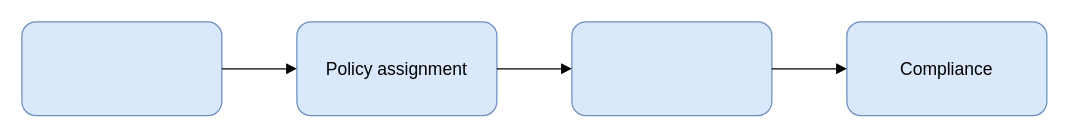
This 1069x138 diagram has some shape labels left out. The shapes that lost their labels are listed below. From the top down, each one's centre as x and y in pixels, then its label:
the point at 121,68: Subscription
the point at 671,68: Resource groups
